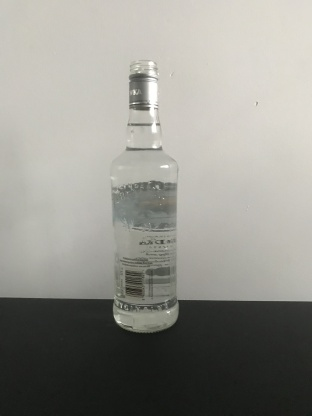nakretka: (126, 58, 160, 113)
